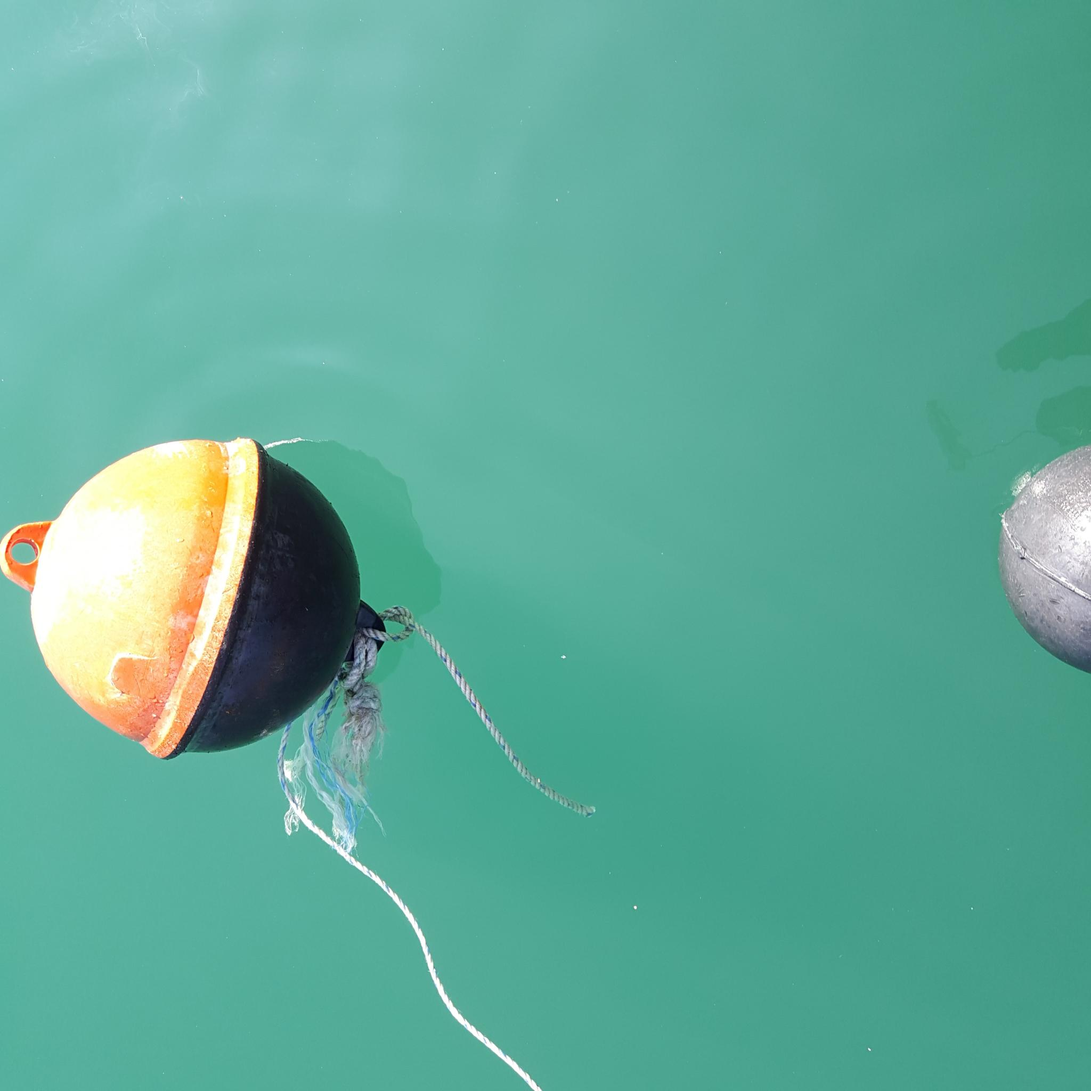sampah_terapung: (276, 607, 597, 1091), (1, 438, 388, 762), (998, 444, 1091, 674)
